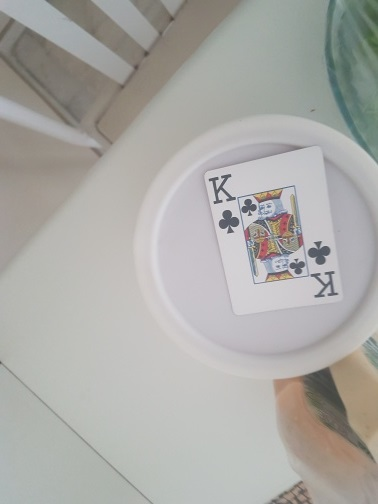king: (205, 145, 345, 317)
